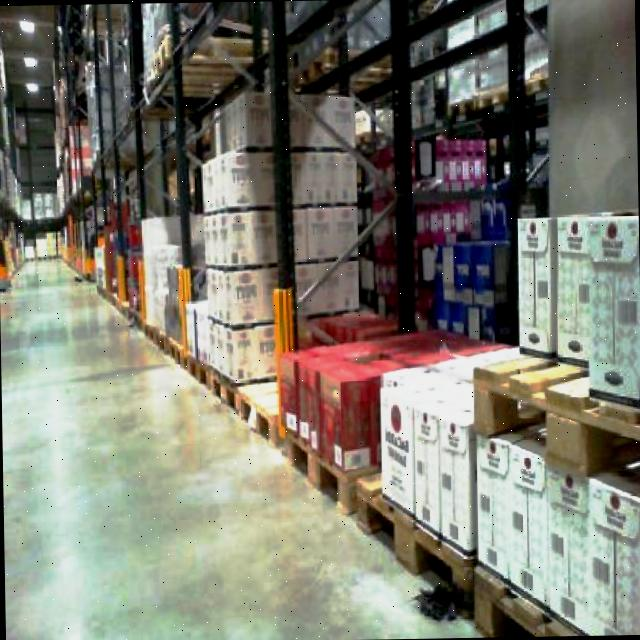ground: (0, 246, 527, 640)
pallet: (54, 0, 640, 640), (269, 305, 640, 639), (468, 350, 640, 636)
